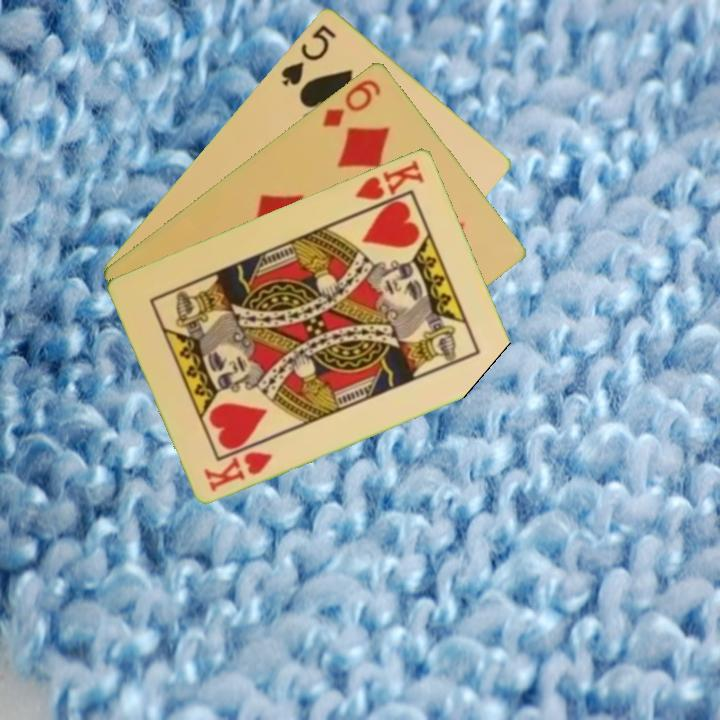5s: (277, 20, 339, 89)
6d: (318, 75, 384, 130)
Kh: (351, 156, 428, 215), (200, 447, 276, 494)
